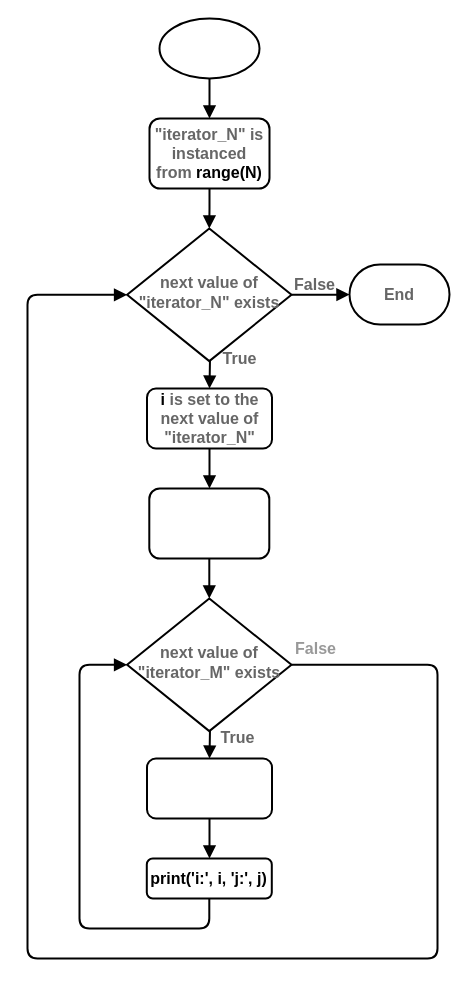
The diagram is 467 pixels wide and 986 high, and some of its shapes have lost their labels. The shapes that lost their labels are listed below. From the top down, each one's box as (x1, y1, x2, y2) in pixels, then its label:
(158, 17, 260, 79): Start
(148, 487, 270, 559): "iterator_M" is instanced from range(M)
(146, 757, 272, 819): j is set to the next value of "iterator_M"
